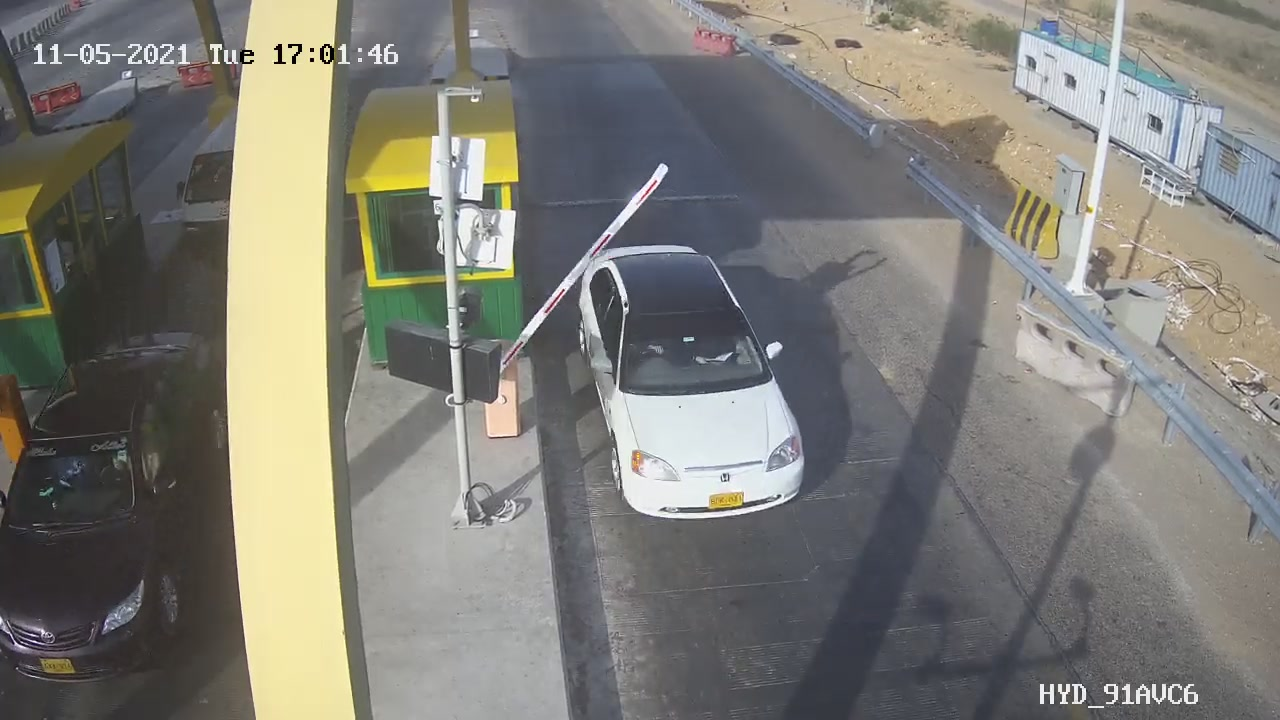F1: (551, 235, 822, 542)
